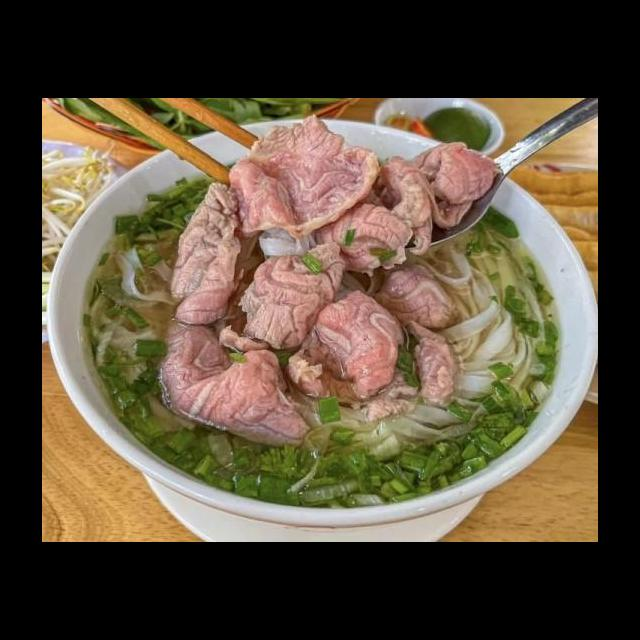banh pho: (403, 235, 555, 416), (79, 243, 184, 378), (297, 402, 477, 466)
pho bo: (68, 125, 598, 542)
thit bo: (151, 317, 316, 455), (220, 109, 384, 240), (368, 138, 507, 259), (232, 235, 353, 362), (283, 287, 404, 413), (165, 177, 260, 330), (313, 193, 419, 282), (401, 318, 468, 415), (377, 264, 458, 328)
